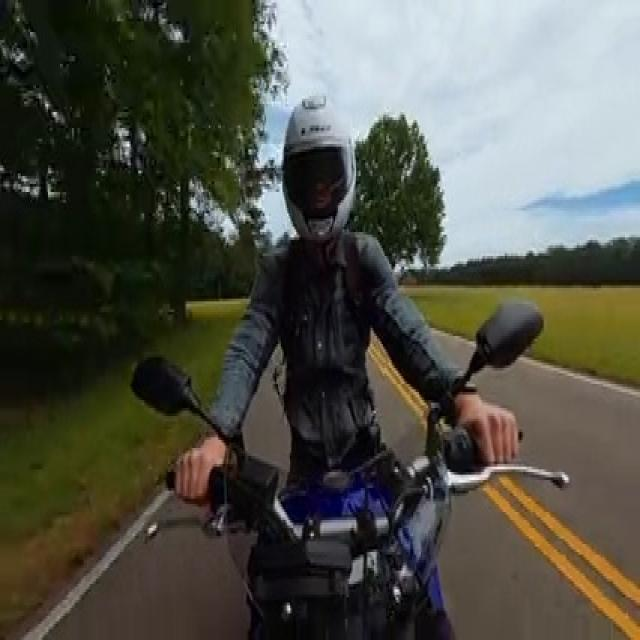Helmet_Wearer: (274, 78, 363, 258)
Person: (174, 78, 520, 512)
